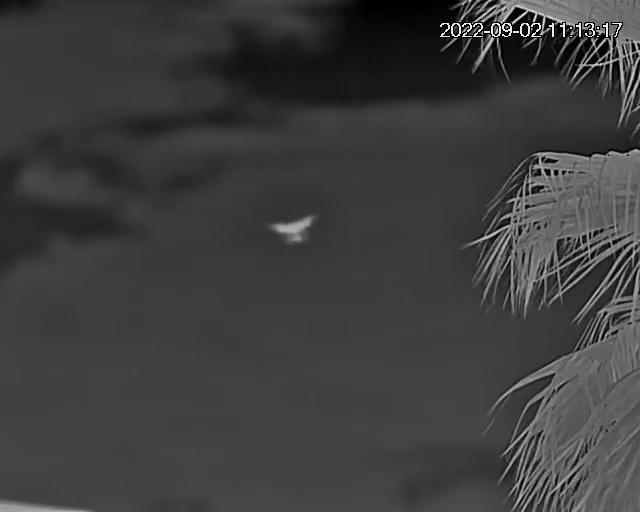DJI-Phantom: (269, 216, 321, 249)
